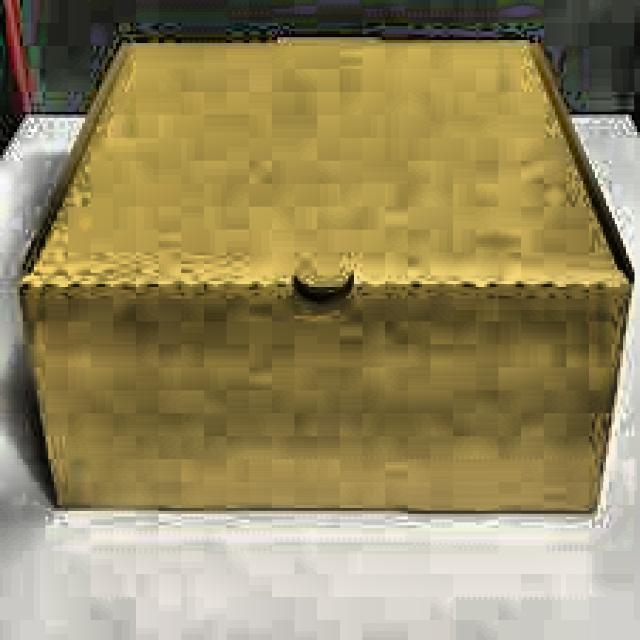cardboard: (14, 31, 634, 514)
